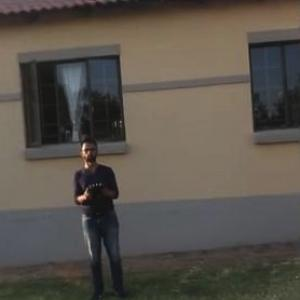follow: (69, 128, 131, 299)
